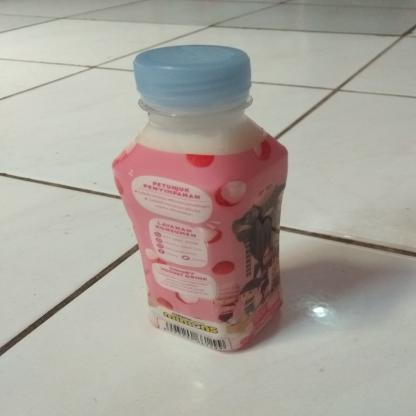plastic: (106, 41, 295, 356)
